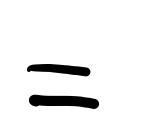eqv: (27, 64, 99, 109)
